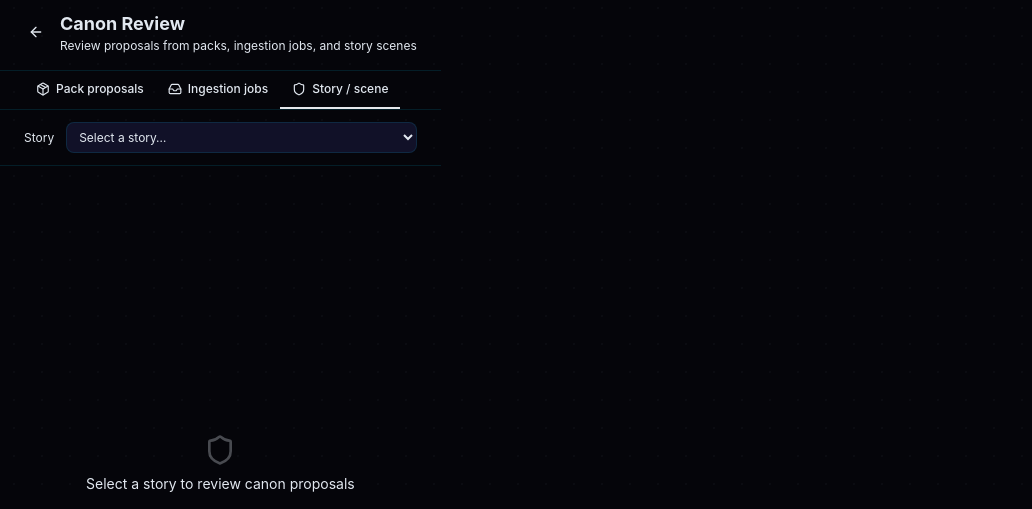
Scenario: /forge/review — story scope (CF-8, F2-3) › loads the story queue including the story-level no-scene lane
This screenshot has width=1032, height=509.
Select "Ashes of the Moon (campaign)" in the dropdown named "story": (242, 138) [66, 122, 417, 153]
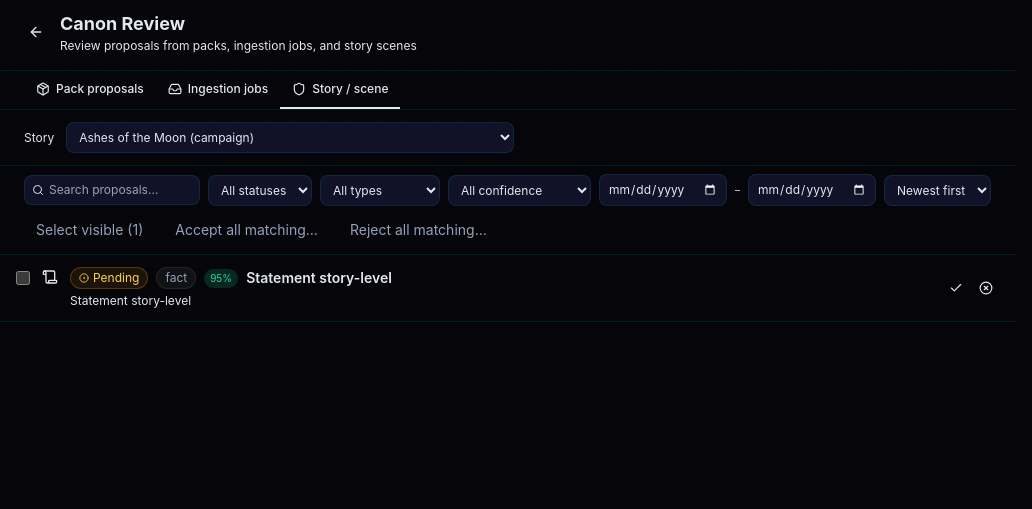
Expected: the element with test id "review-row-story-level" is shown, [0, 255, 1015, 322]
